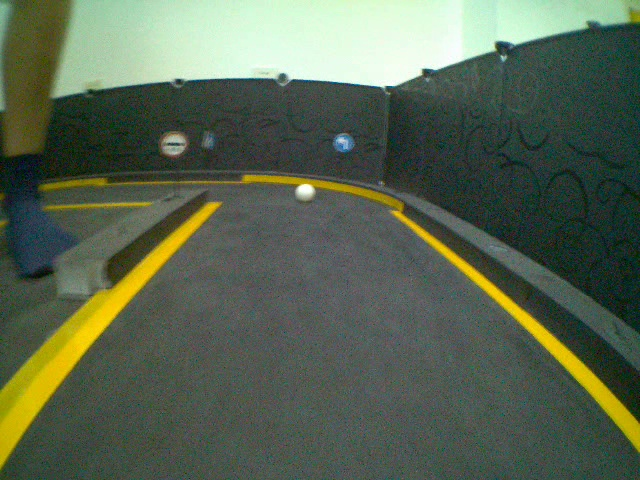ball: (294, 181, 319, 203)
